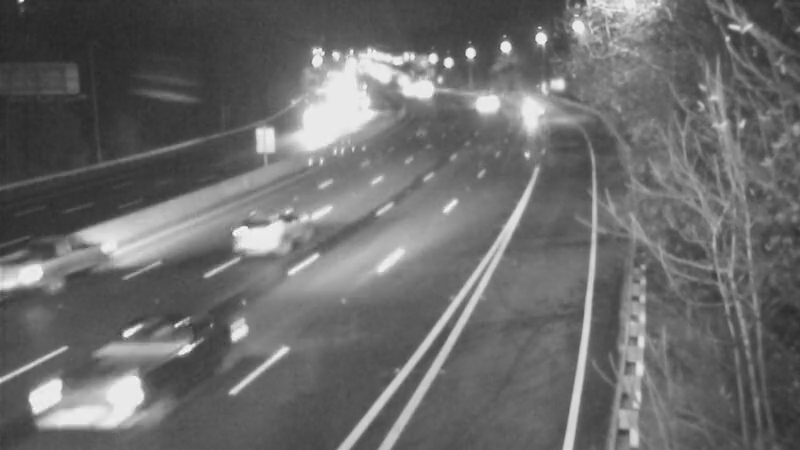vehicle: (48, 329, 158, 439), (220, 201, 300, 281), (2, 228, 82, 308), (399, 71, 449, 121), (451, 77, 501, 127), (509, 83, 559, 133)
